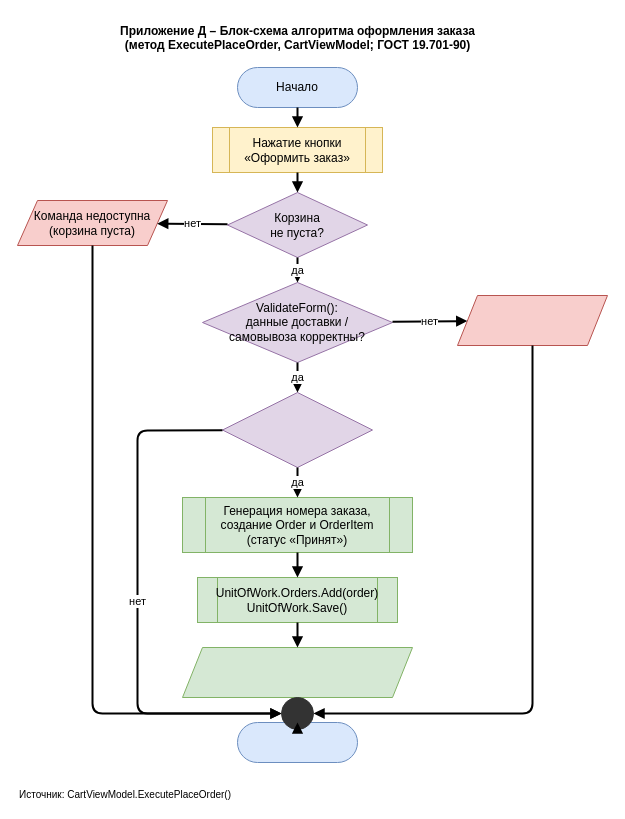
This 625x819 diagram has some shape labels left out. The shapes that lost their labels are listed below. From the top down, each one's box as (x1, y1, x2, y2) in pixels, then its label:
(456, 294, 608, 346): ValidationError = текст ошибки
(222, 392, 372, 468): Пользователь в SessionService не null?
(182, 646, 412, 698): Очистка корзины, сброс полей, StatusMessage об успехе
(236, 722, 358, 762): Конец
